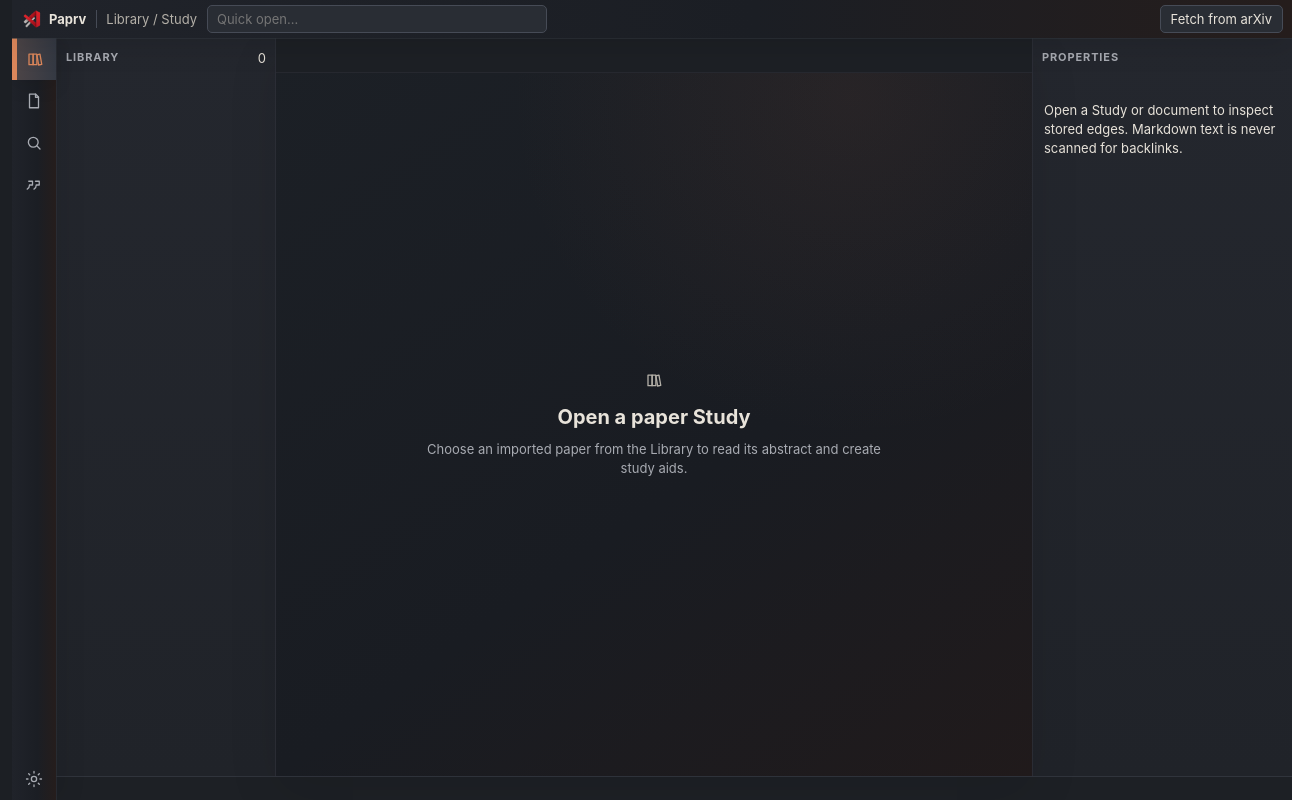
it: independent Vault and Study workspace › shows an activity-specific empty workspace before any tab is opened
This screenshot has width=1292, height=800.
Expected: the element with class "workspace-empty" shows "Open a paper Study", [558, 405, 750, 429]
Expected: the element with class "workspace-empty" does not show "Open a Vault document"
Click the button named "Vault" at (34, 101), box [12, 80, 56, 122]
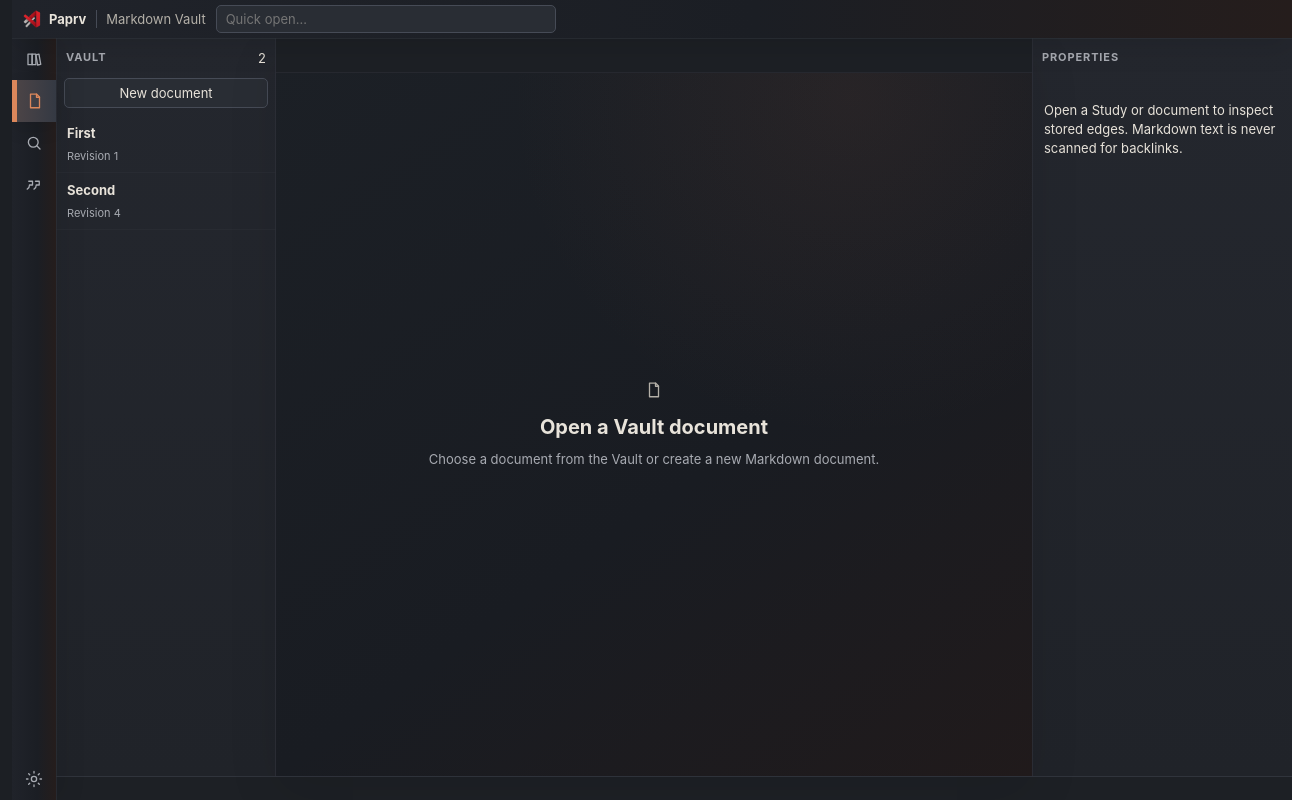
Expected: the text "Open a Vault document" is shown, [540, 413, 768, 442]
